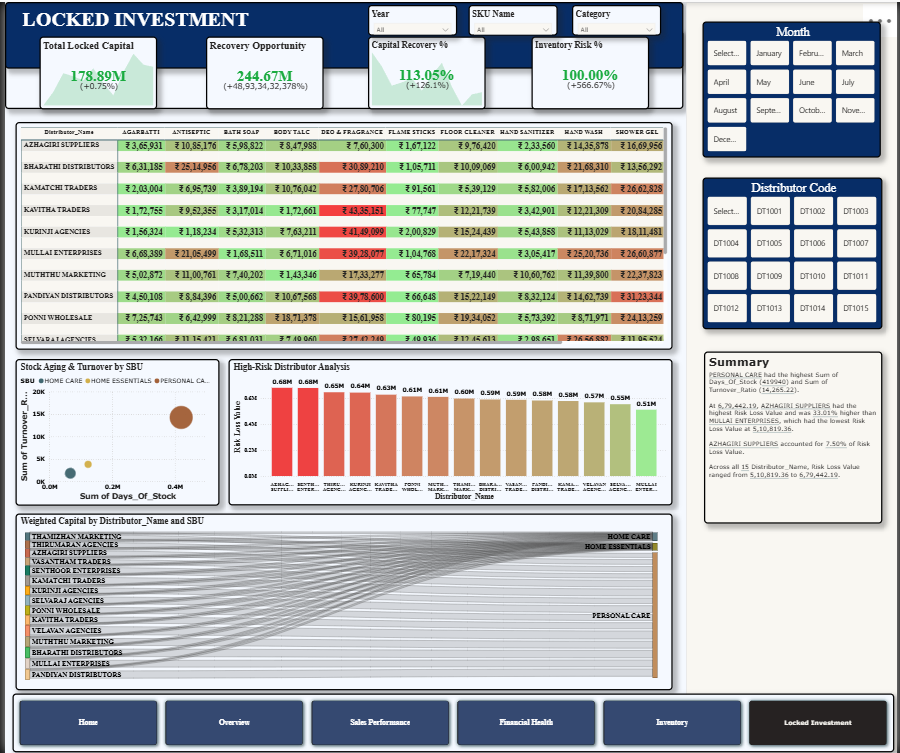

Layout of this report page (visuals, bound fields, positions):
{"tool":"powerbi","page":{"name":"Locked Investment","canvas":[1900,1600],"ordinal":5},"visuals":[{"type":"textbox","box":[0,60,1445,167.5],"z":0},{"type":"shape","box":[0,0,1445,142.2],"z":1000},{"type":"textbox","box":[1450,0,453.1,1599.1],"z":1000,"group":"g1"},{"type":"group","id":"g1","title":"Group 2","box":[1450,0,453.1,1599.1],"z":2000},{"type":"kpi","title":"Inventory Risk %","fields":{"Indicator":["_Measures.Inventory Risk %"],"Goal":["_Measures.inventory risk target"],"TrendLine":["Dim_Date.Date.Variation.Date Hierarchy.Month"]},"box":[1121.4,72,250.8,155.6],"z":4000},{"type":"slicer","title":"Category","fields":{"Values":["Products.Category"]},"box":[1207.4,7,190.3,65],"z":4500},{"type":"kpi","title":"Capital Recovery %","fields":{"Indicator":["_Measures.Capital Recovery %"],"Goal":["_Measures.Recovery Target"],"TrendLine":["Dim_Date.Date.Variation.Date Hierarchy.Month"]},"box":[773.2,72,250.8,155.6],"z":5000},{"type":"kpi","title":"Recovery Opportunity","fields":{"Indicator":["_Measures.Recovery Opportunity %"],"Goal":["_Measures.Recovery Oppurtunity %"],"TrendLine":["Dim_Date.Date.Variation.Date Hierarchy.Month"]},"box":[429.5,72,250.8,155.6],"z":6000},{"type":"kpi","title":"Total Locked Capital","fields":{"Indicator":["Raw_Inventory.Total Locked Capital"],"Goal":["Raw_Inventory.Last Month Locked Capital"],"TrendLine":["Dim_Date.Date.Variation.Date Hierarchy.Month"]},"box":[74.3,72,250.8,155.6],"z":7000},{"type":"advancedSlicerVisual","title":"Month","fields":{"Values":["Dim_Date.Date.Variation.Date Hierarchy.Month"]},"box":[1486.7,40,380,290],"z":8000,"group":"g1"},{"type":"scatterChart","title":"Stock Aging & Turnover by SBU","fields":{"X":["Sum(Raw_Inventory.Days_Of_Stock)"],"Y":["Sum(Raw_Inventory.Turnover_Ratio)"],"Size":["Sum(Raw_Inventory.Inventory_Value)"],"Series":["Products.SBU"]},"box":[23.8,761.9,434.9,312.7],"z":8000},{"type":"advancedSlicerVisual","title":"Distributor Code","fields":{"Values":["Distirbutor.Distributor_Code"]},"box":[1486.7,373.3,383.3,323.3],"z":9000,"group":"g1"},{"type":"columnChart","title":"High-Risk Distributor Analysis","fields":{"Category":["Distirbutor.Distributor_Name"],"Y":["_Measures.Risk Loss Value"]},"box":[476,762,946,312],"z":9000},{"type":"pivotTable","fields":{"Rows":["Distirbutor.Distributor_Name"],"Columns":["Products.Category"],"Values":["_Measures.Dead Stock Value"]},"box":[22.5,255,1400,485],"z":10000},{"type":"slicer","title":"SKU Name","fields":{"Values":["Products.SKU_Name"]},"box":[988.1,7,190.3,65],"z":10250},{"type":"slicer","title":"Year","fields":{"Values":["Dim_Date.Year"]},"box":[773.2,7,190.3,65],"z":10375},{"type":"sankey02300D1BE6F5427989F3DE31CCA9E0F32020","fields":{"Source":["Distirbutor.Distributor_Name"],"Weight":["ABC_Table.Weighted Capital"],"Destination":["Products.SBU"]},"box":[21,1090,1400,376.5],"z":11000},{"type":"textbox","title":"Summary","box":[1490,743.3,380,366.7],"z":12000},{"type":"pageNavigator","box":[15.7,1474.5,1878.4,125.5],"z":13000},{"type":"textbox","box":[32.7,7.7,523.1,65.4],"z":14000}]}

Visuals, with their boxes in screenshot pixels (x1, y1, x2, y2), scaled from the page's 1900x1600 canvas onto the 900x753 screenshot:
textbox: x1=0, y1=28, x2=684, y2=107
shape: x1=0, y1=0, x2=684, y2=67
textbox: x1=687, y1=0, x2=899, y2=752
"Group 2" group: x1=687, y1=0, x2=899, y2=752
"Inventory Risk %" kpi: x1=531, y1=34, x2=650, y2=107
"Category" slicer: x1=572, y1=3, x2=662, y2=34
"Capital Recovery %" kpi: x1=366, y1=34, x2=485, y2=107
"Recovery Opportunity" kpi: x1=203, y1=34, x2=322, y2=107
"Total Locked Capital" kpi: x1=35, y1=34, x2=154, y2=107
"Month" advancedSlicerVisual: x1=704, y1=19, x2=884, y2=155
"Stock Aging & Turnover by SBU" scatterChart: x1=11, y1=359, x2=217, y2=506
"Distributor Code" advancedSlicerVisual: x1=704, y1=176, x2=886, y2=328
"High-Risk Distributor Analysis" columnChart: x1=225, y1=359, x2=674, y2=505
pivotTable - Distirbutor.Distributor_Name x Products.Category: x1=11, y1=120, x2=674, y2=348
"SKU Name" slicer: x1=468, y1=3, x2=558, y2=34
"Year" slicer: x1=366, y1=3, x2=456, y2=34
sankey02300D1BE6F5427989F3DE31CCA9E0F32020 - Distirbutor.Distributor_Name x ABC_Table.Weighted Capital: x1=10, y1=513, x2=673, y2=690
"Summary" textbox: x1=706, y1=350, x2=886, y2=522
pageNavigator: x1=7, y1=694, x2=897, y2=752
textbox: x1=15, y1=4, x2=263, y2=34
